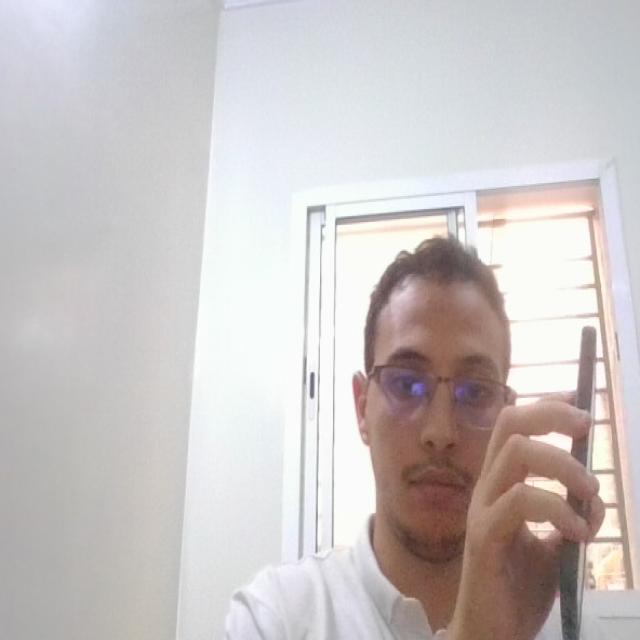phone: (555, 318, 607, 640)
